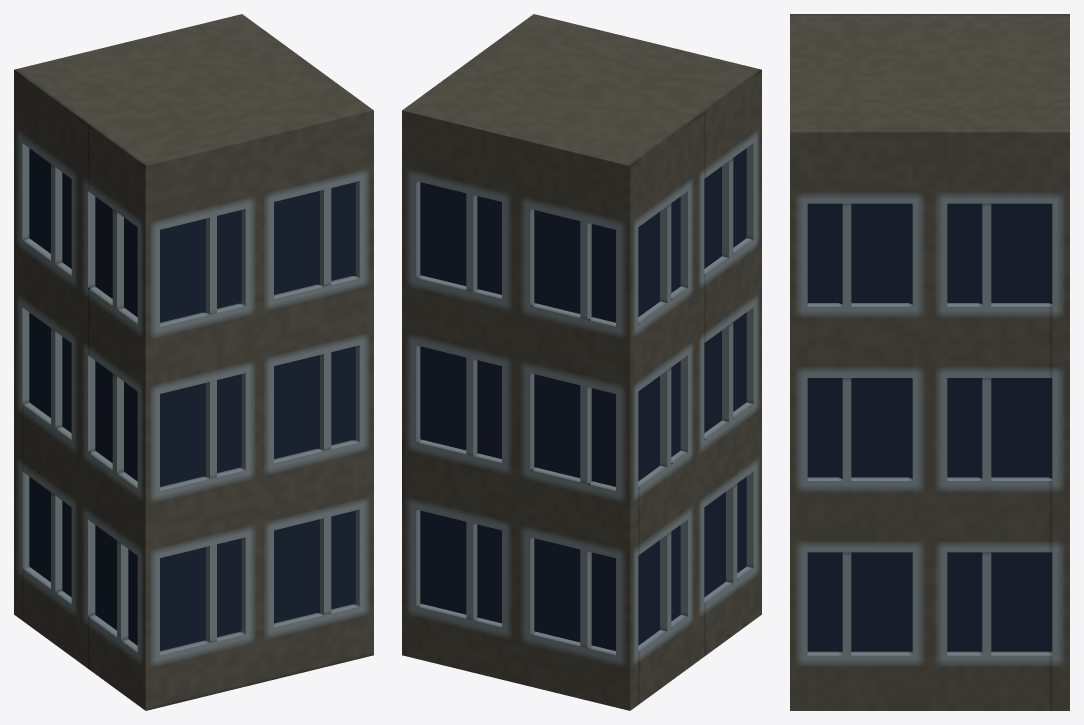
Rendered from budynek_uni2_4.dae.
The picture shows the model from 3 angles, left to right: view 1: azimuth 30°, elevation 25°; view 2: azimuth 150°, elevation 25°; view 3: azimuth 270°, elevation 25°; orthographic projection. The views are drawn at different scales.
Parts seen in each view (by area): view 1: Content; view 2: Content; view 3: Content.
Boxes of the visible parts, x1,y1,x2,y2 form: Content: [14, 14, 373, 710]; Content: [402, 14, 761, 710]; Content: [790, 14, 1069, 710].
Size of the model in its own units: 32 by 73 by 32.
1 material, 1 textured.
